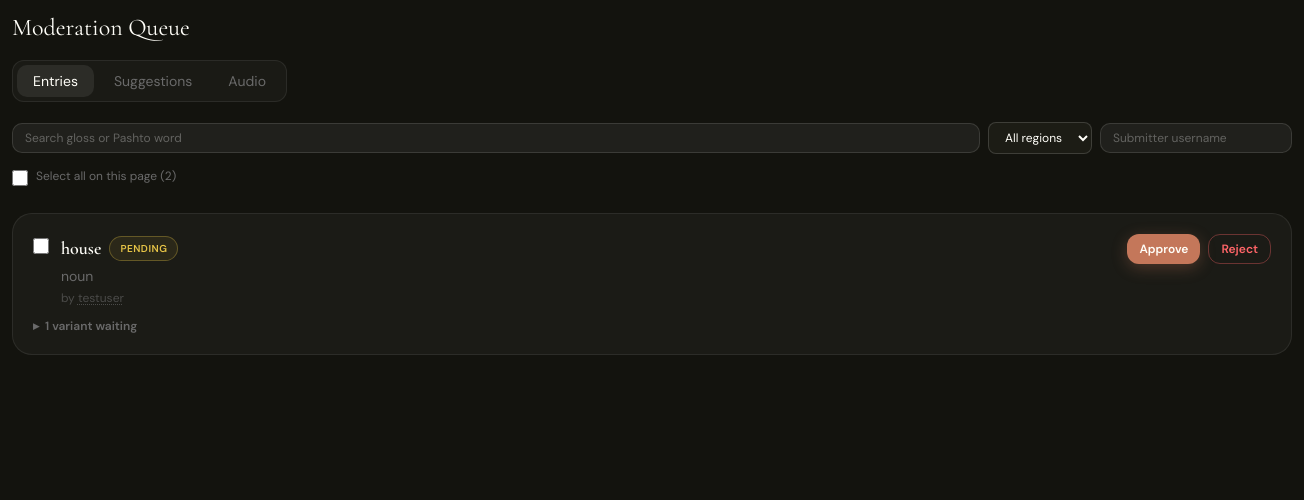
Test case: Grouped queue — concept rows with variant dropdowns › expands and collapses when the concept row itself is clicked
Click the text "house".
click(81, 248)  # box [61,234,101,262]
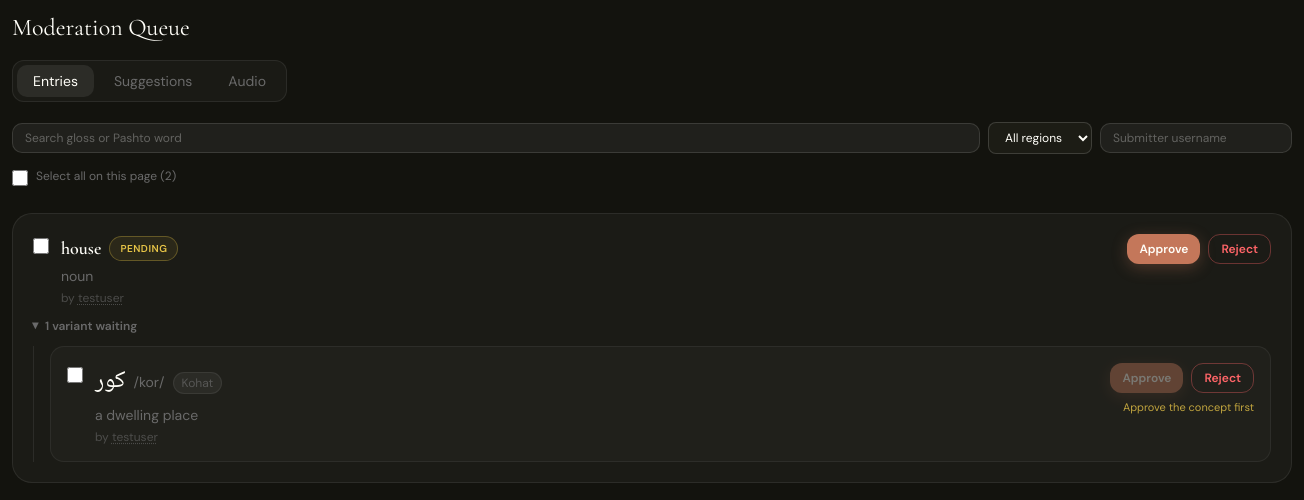
Expected: the button "▸ 1 variant waiting" is expanded, [33,318,137,334]
Expected: the text "کور" is shown, [95,363,126,401]
Click the text "noun".
click(77, 276)  # box [61,267,93,285]
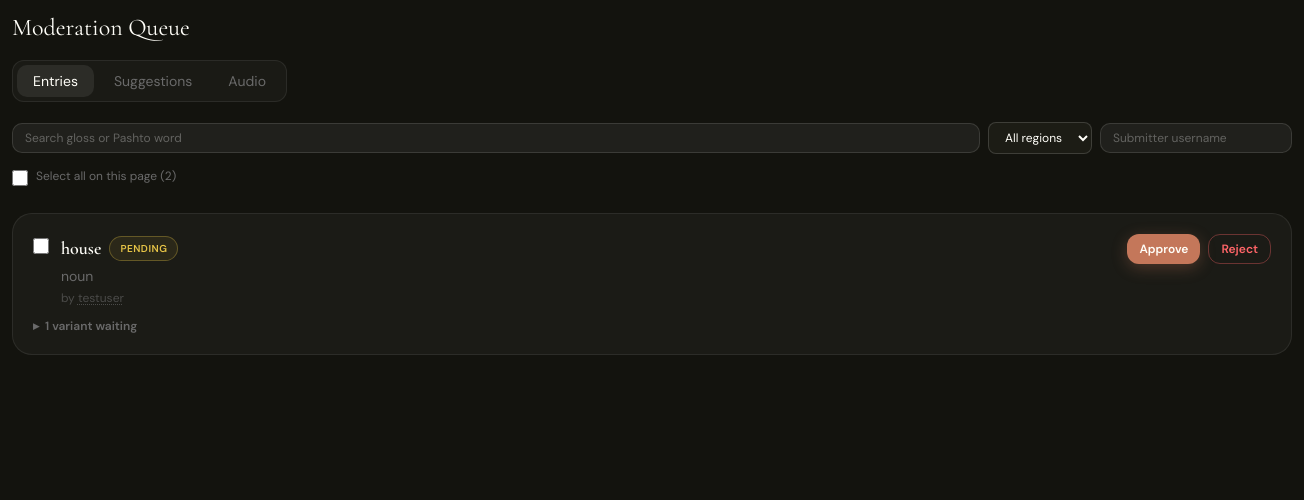
Expected: the button "▸ 1 variant waiting" is collapsed, [33,318,137,334]
Expected: the text "کور" is gone
